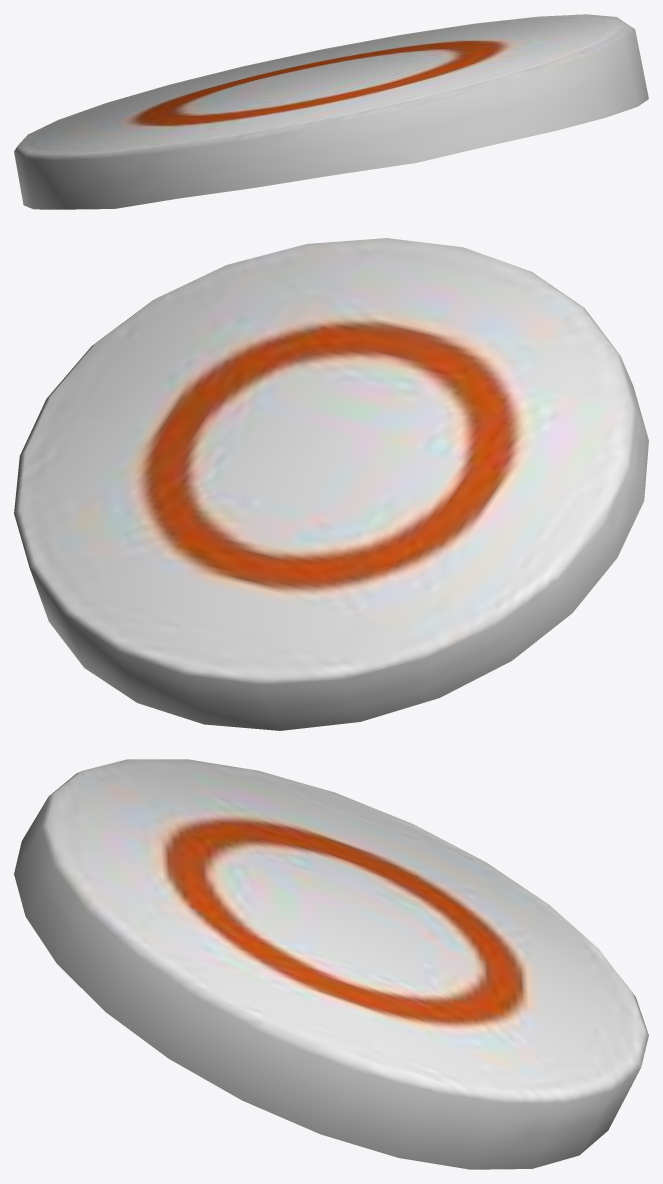
3 renders of one model, top to bottom at view 1: azimuth 30°, elevation 25°; view 2: azimuth 150°, elevation 25°; view 3: azimuth 270°, elevation 25°, orthographic. The views are drawn at different scales.
Bounding box in the file's own units: 0.00975 × 0.0046 × 0.00944.
1 material, 1 textured.
